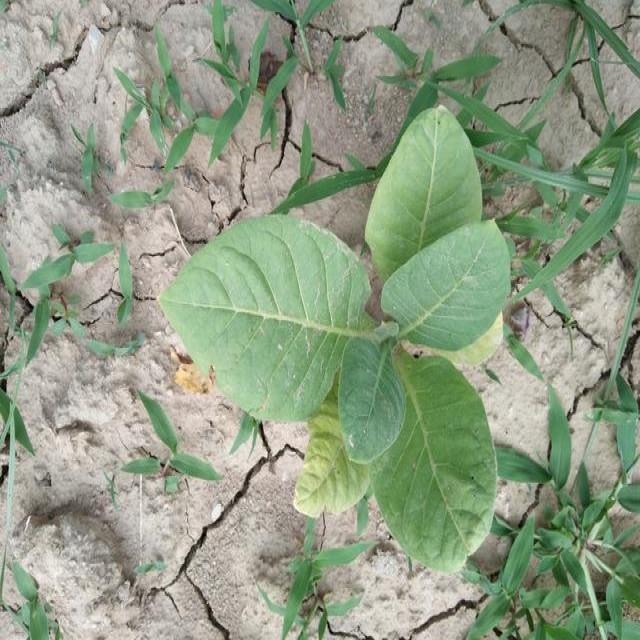crop: (155, 100, 510, 576)
